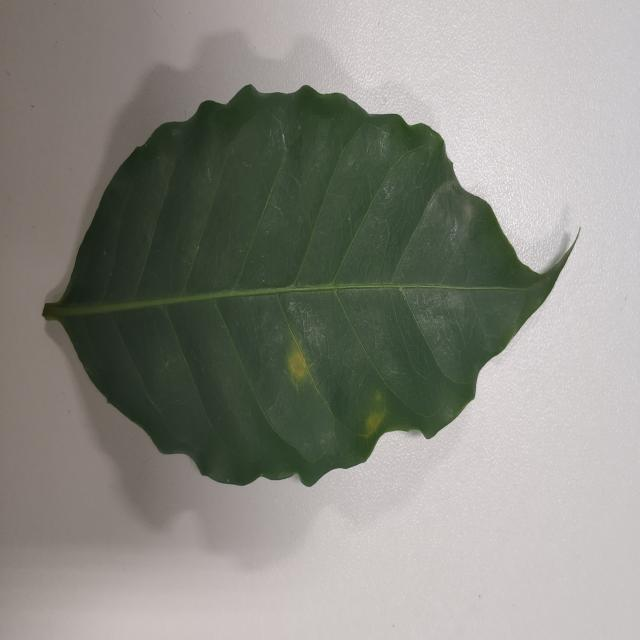Enfermedad-Roya: (43, 86, 578, 490)
